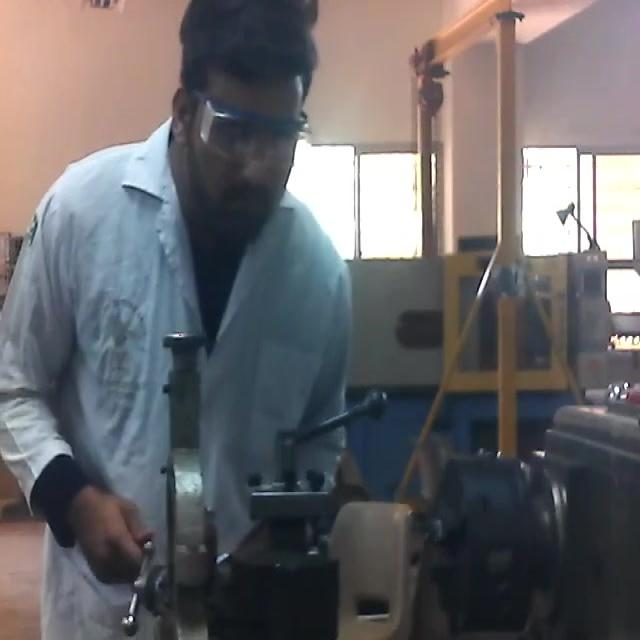googles: (173, 75, 315, 173)
labcoat: (3, 117, 361, 640)
